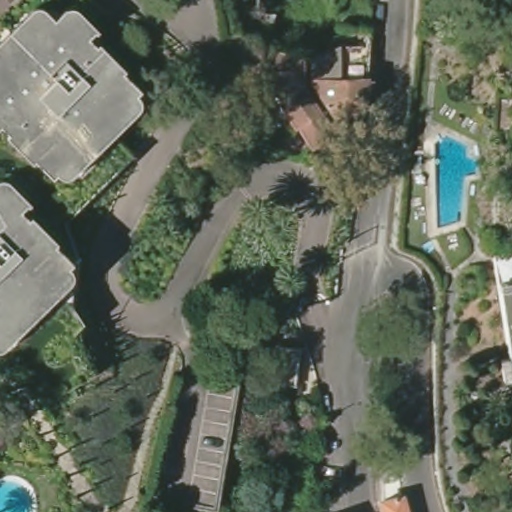pool: (430, 137, 483, 232), (1, 479, 43, 512)
